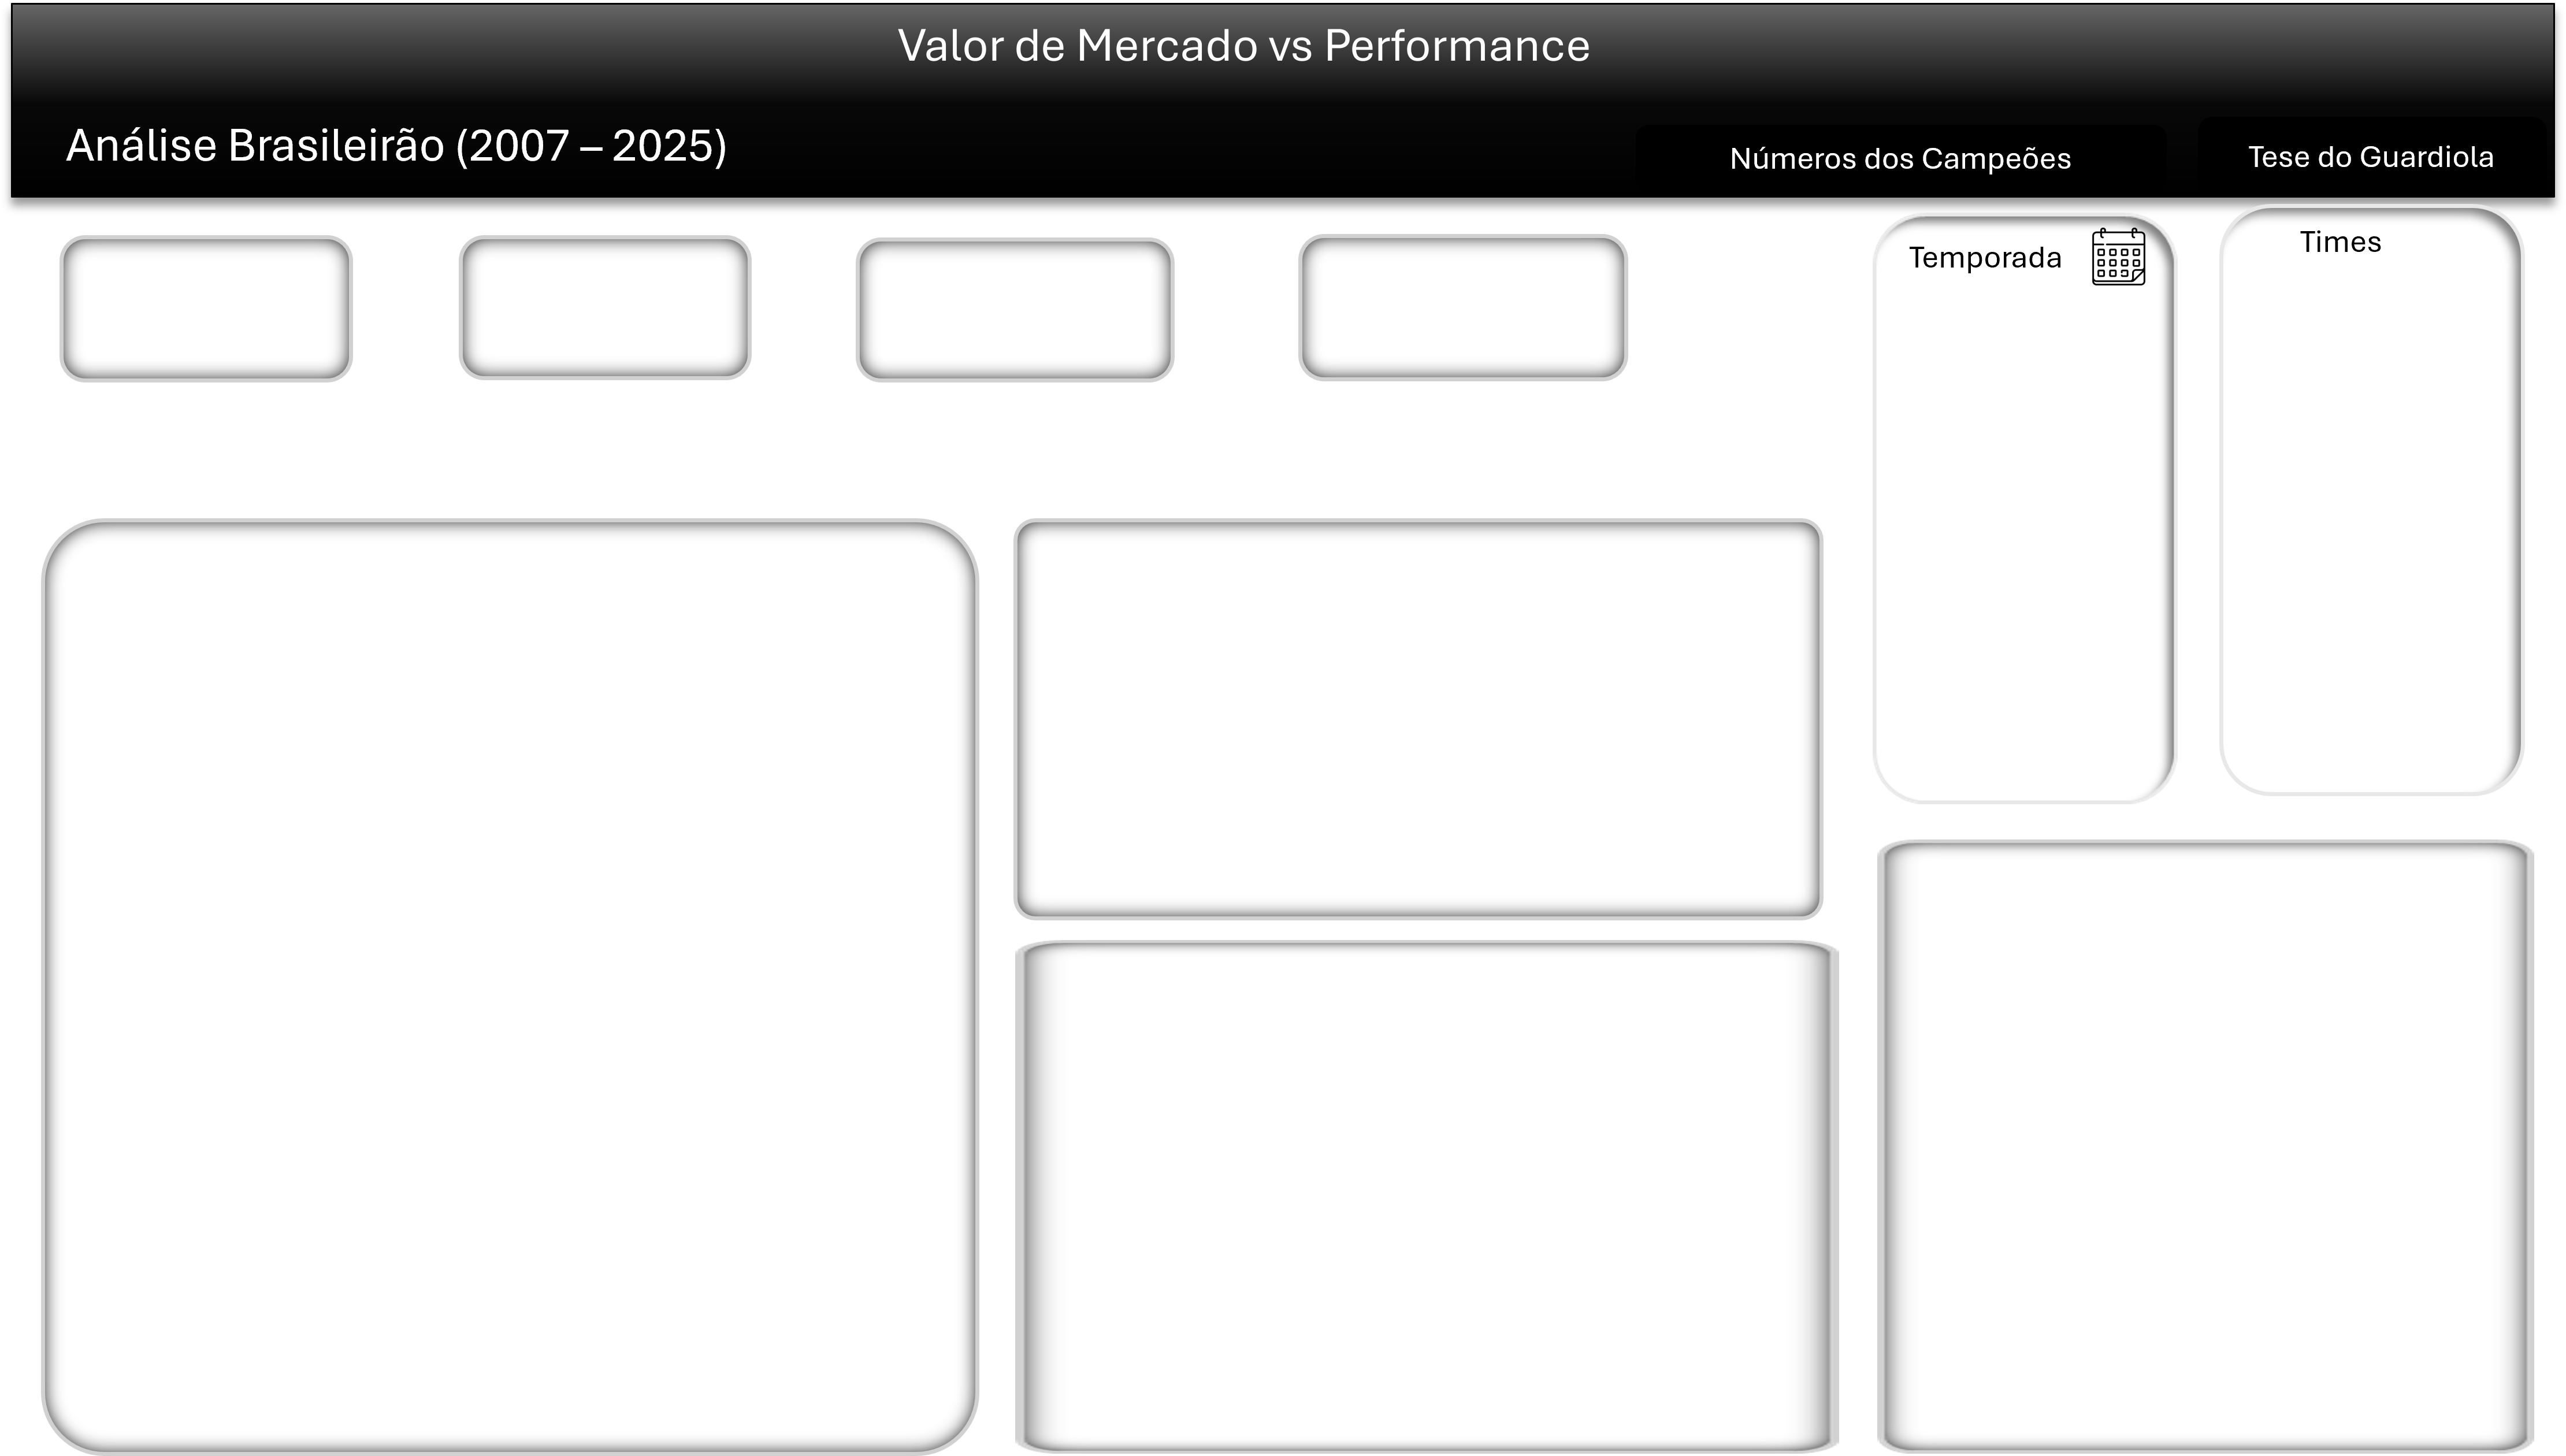

Layout of this report page (visuals, bound fields, positions):
{"tool":"powerbi","page":{"name":"Página 2","canvas":[1280,720],"ordinal":1},"visuals":[{"type":"slicer","fields":{"Values":["investimento_vs_desempenho.temporada"]},"box":[944.8,127.8,124.7,243.3],"z":0},{"type":"slicer","fields":{"Values":["investimento_vs_desempenho.time"]},"box":[1112.6,122.9,135.8,248.2],"z":1000},{"type":"clusteredBarChart","title":"Valor de mercado do elenco por time","fields":{"Category":["investimento_vs_desempenho.time"],"Y":["investimento_vs_desempenho.Investimento Total"]},"box":[510.5,470.6,401.8,249.4],"z":2000},{"type":"clusteredBarChart","title":"Valor de mercado por ponto","fields":{"Category":["investimento_vs_desempenho.time"],"Y":["investimento_vs_desempenho.Custo por Ponto"]},"box":[510.5,261.1,391.3,185.5],"z":3000},{"type":"card","title":"Spearman médio | 2007-2025","fields":{"Values":["investimento_vs_desempenho.Spearman médio | 2007-2025"]},"box":[36.2,114.9,125.3,62],"z":4000},{"type":"card","title":"Spearman médio | 2018-2025","fields":{"Values":["investimento_vs_desempenho.Spearman médio | 2018-2025"]},"box":[239,114.9,125.3,62],"z":5000},{"type":"card","title":"% Campeões no Top 4 de valor","fields":{"Values":["investimento_vs_desempenho.% Campeões Top 4 Financeiro"]},"box":[430.6,114.9,146.2,62],"z":6000},{"type":"card","title":"Top 4 de valor que terminou no G4","fields":{"Values":["investimento_vs_desempenho.Eficiência G4 (Top4 Fin → G4 Real)"]},"box":[651.8,114.9,156,54.1],"z":7000},{"type":"scatterChart","title":"Valor de mercado x desempenho","fields":{"X":["investimento_vs_desempenho.valor_mercado"],"Y":["investimento_vs_desempenho.pontos"],"Series":["investimento_vs_desempenho.Grupo Investimento"]},"box":[28.1,261.1,447,449.6],"z":8000},{"type":"textbox","box":[944.8,412.2,319.5,307.8],"z":9000},{"type":"actionButton","box":[844.7,52.8,210.1,39.9],"z":10000},{"type":"actionButton","box":[1112.6,52.8,151.7,39.9],"z":11000}]}

Visuals, with their boxes in screenshot pixels (x1, y1, x2, y2), scaled from the page's 1280x720 canvas onto the 2566x1456 screenshot:
slicer - investimento_vs_desempenho.temporada: region(1894, 258, 2144, 751)
slicer - investimento_vs_desempenho.time: region(2230, 248, 2502, 751)
"Valor de mercado do elenco por time" clusteredBarChart: region(1023, 952, 1829, 1455)
"Valor de mercado por ponto" clusteredBarChart: region(1023, 528, 1808, 903)
"Spearman médio | 2007-2025" card: region(73, 232, 324, 358)
"Spearman médio | 2018-2025" card: region(479, 232, 730, 358)
"% Campeões no Top 4 de valor" card: region(863, 232, 1156, 358)
"Top 4 de valor que terminou no G4" card: region(1306, 232, 1620, 342)
"Valor de mercado x desempenho" scatterChart: region(56, 528, 952, 1437)
textbox: region(1894, 834, 2535, 1455)
actionButton: region(1694, 107, 2115, 187)
actionButton: region(2230, 107, 2535, 187)
